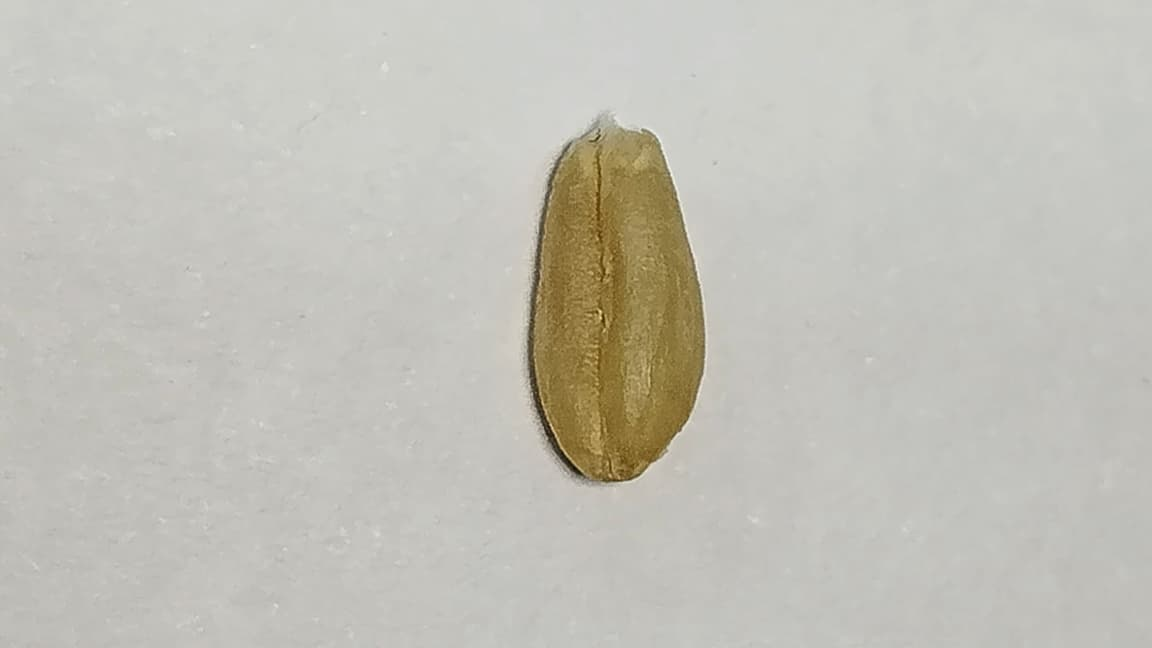healthy: (530, 123, 704, 480)
